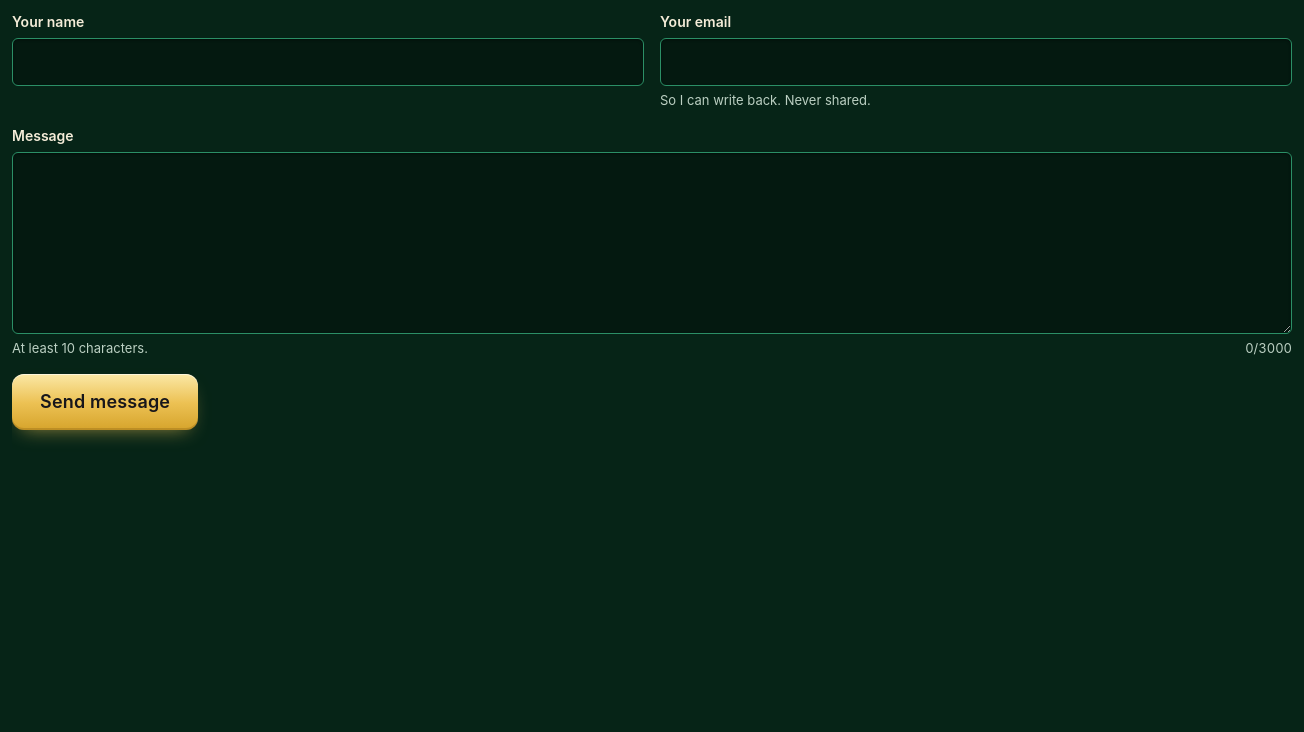
Test: ContactForm › reports network failures in plain words
Type "Asha" into the field labelled "Your name" at (328, 62), box left=12, top=38, right=644, bottom=86
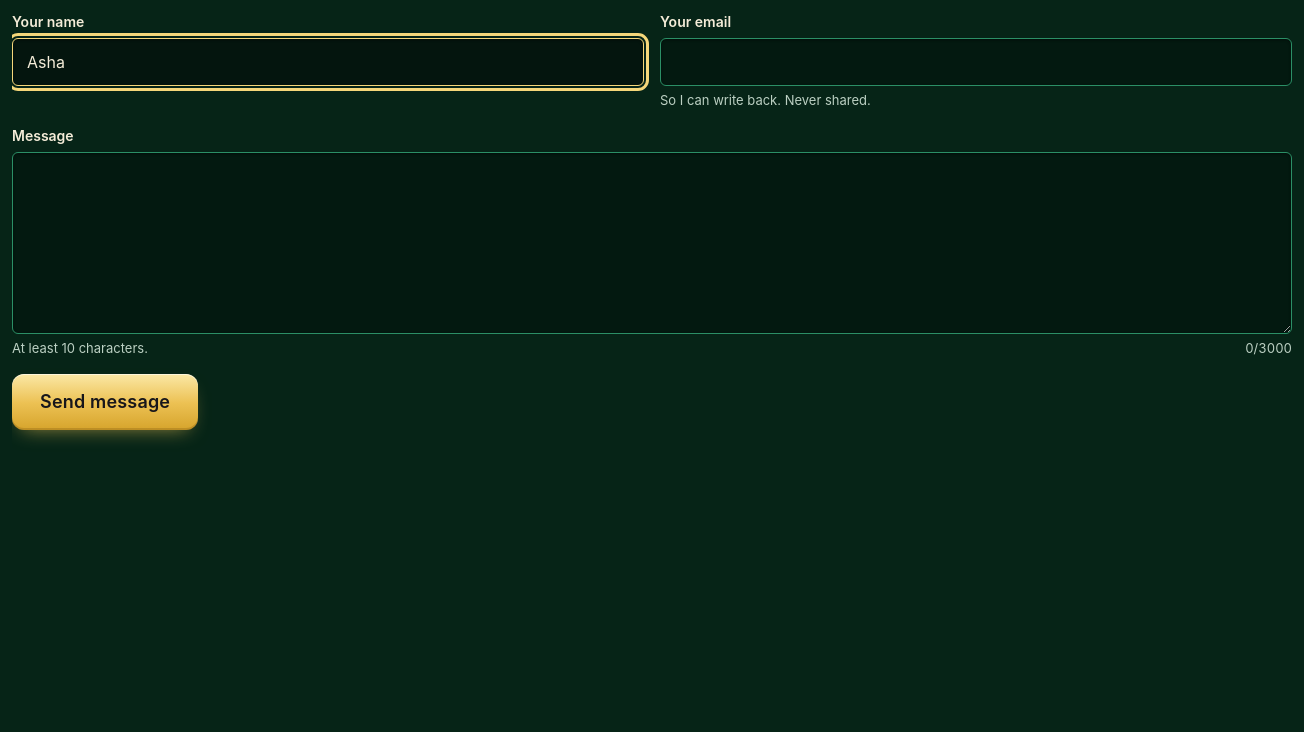
Type "asha@example.com" into the field labelled "Your email" at (976, 62), box left=660, top=38, right=1292, bottom=86
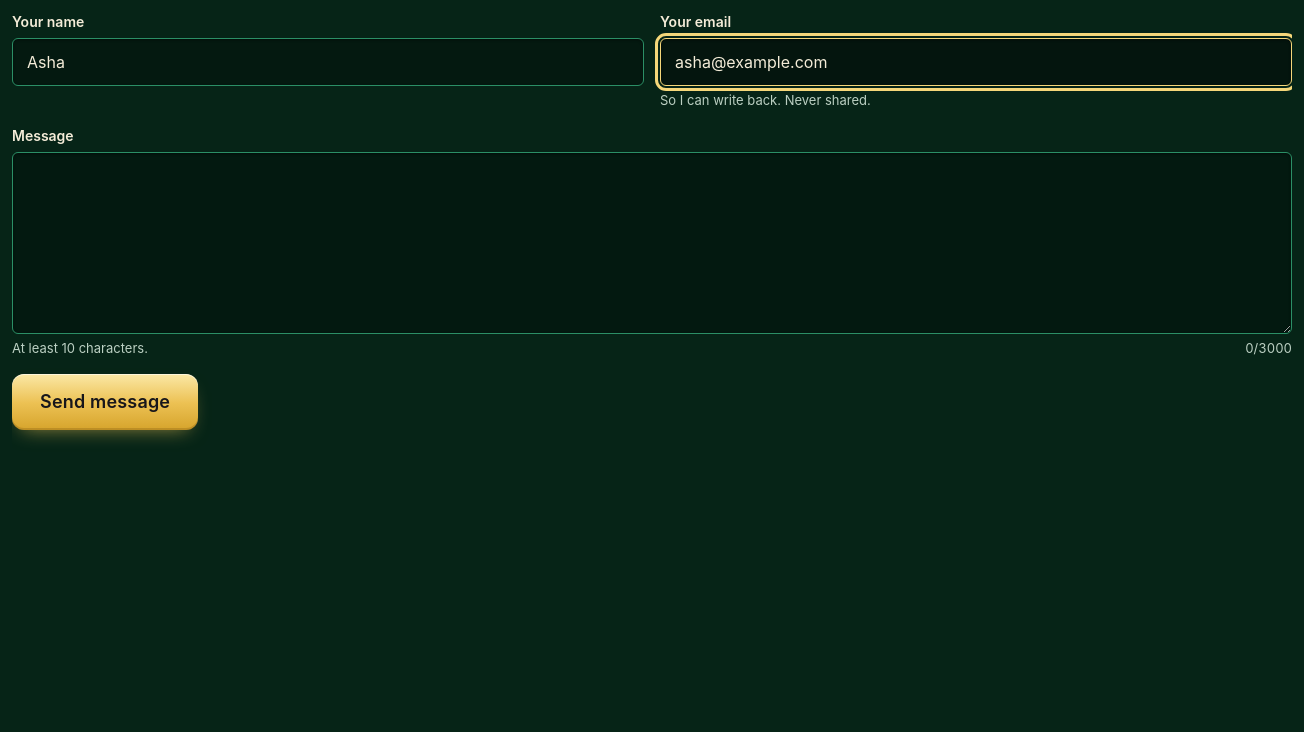
Type "Hello from the table!" into the text box labelled "Message" at (652, 243), box left=12, top=152, right=1292, bottom=334
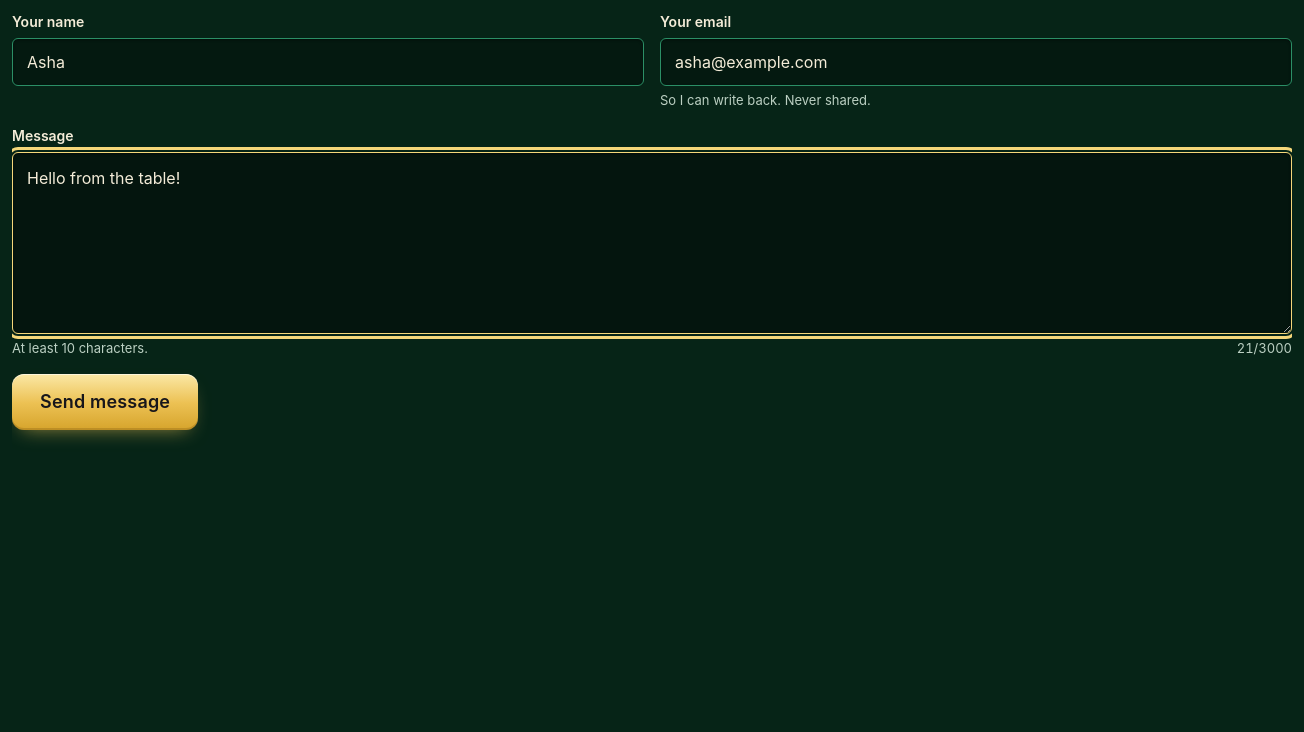
Click the button "Send message" at (105, 402), box left=12, top=374, right=198, bottom=430
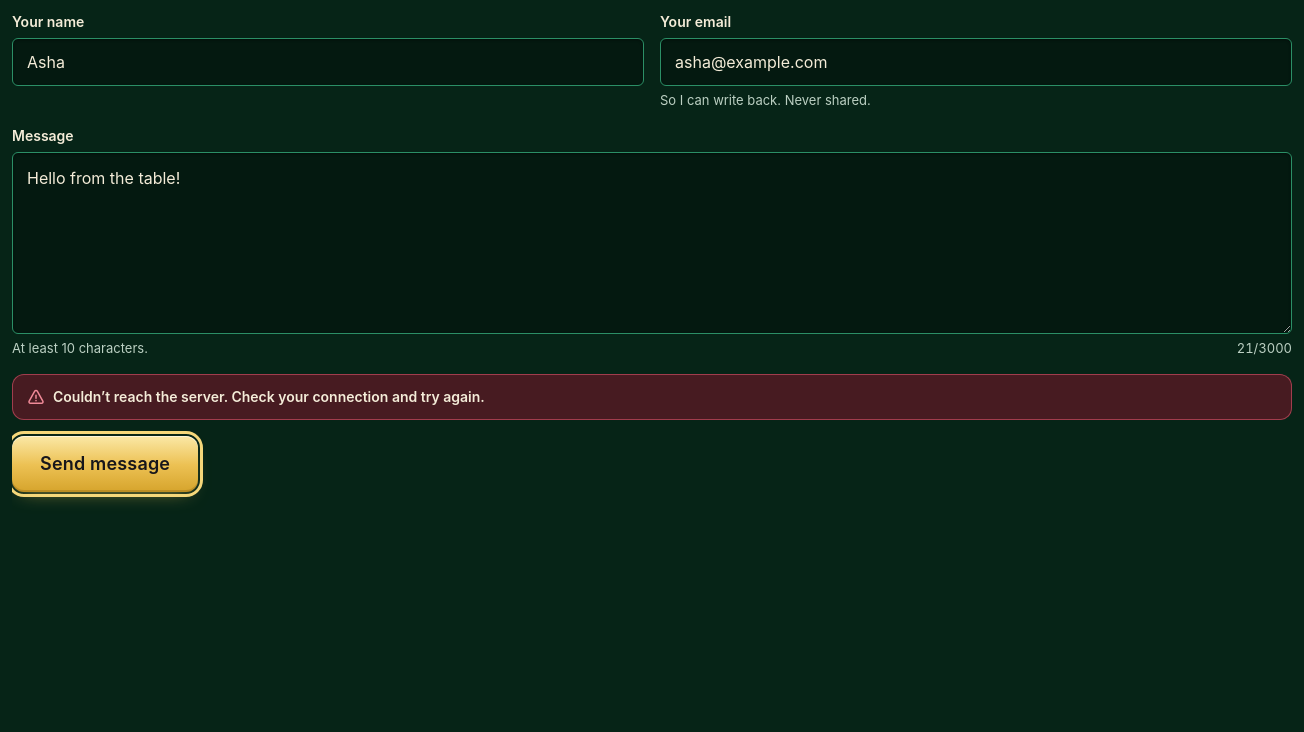
Expected: the message shows "Couldn’t reach the server", left=53, top=388, right=485, bottom=405
